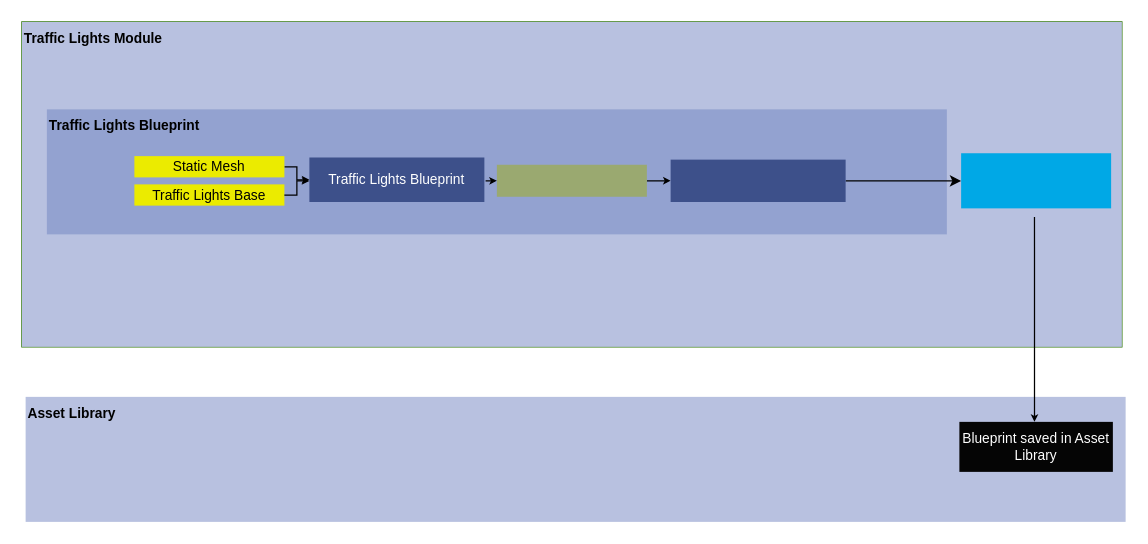
Image size: 1148x544. Some labels were removed from this diagram. The shapes that lost their labels are listed below. From the top down, each one's centre as x and y in pixels, then its label:
point 571,180: Traffic Lights id
point 757,180: Traffic Lights Group Controller
point 1035,180: Working BPs on junctions
